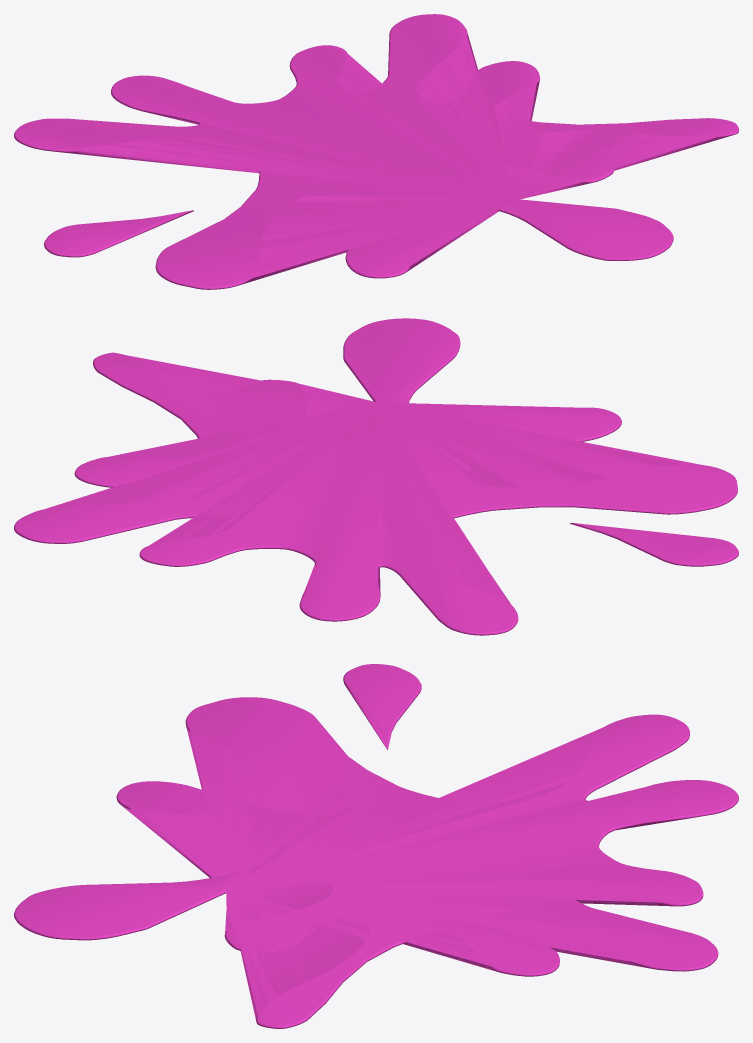
File: paintSplatMod2.fbx
The picture shows the model from 3 angles, top to bottom: view 1: azimuth 30°, elevation 25°; view 2: azimuth 150°, elevation 25°; view 3: azimuth 270°, elevation 25°; orthographic projection. The views are drawn at different scales.
Parts seen in each view (by area): view 1: Curve; view 2: Curve; view 3: Curve.
Boxes of the visible parts, x1,y1,x2,y2 form: Curve: (14, 14, 738, 289); Curve: (14, 318, 738, 635); Curve: (14, 664, 738, 1028).
Size of the model in its own units: 11.14 by 0.0331 by 9.4.
